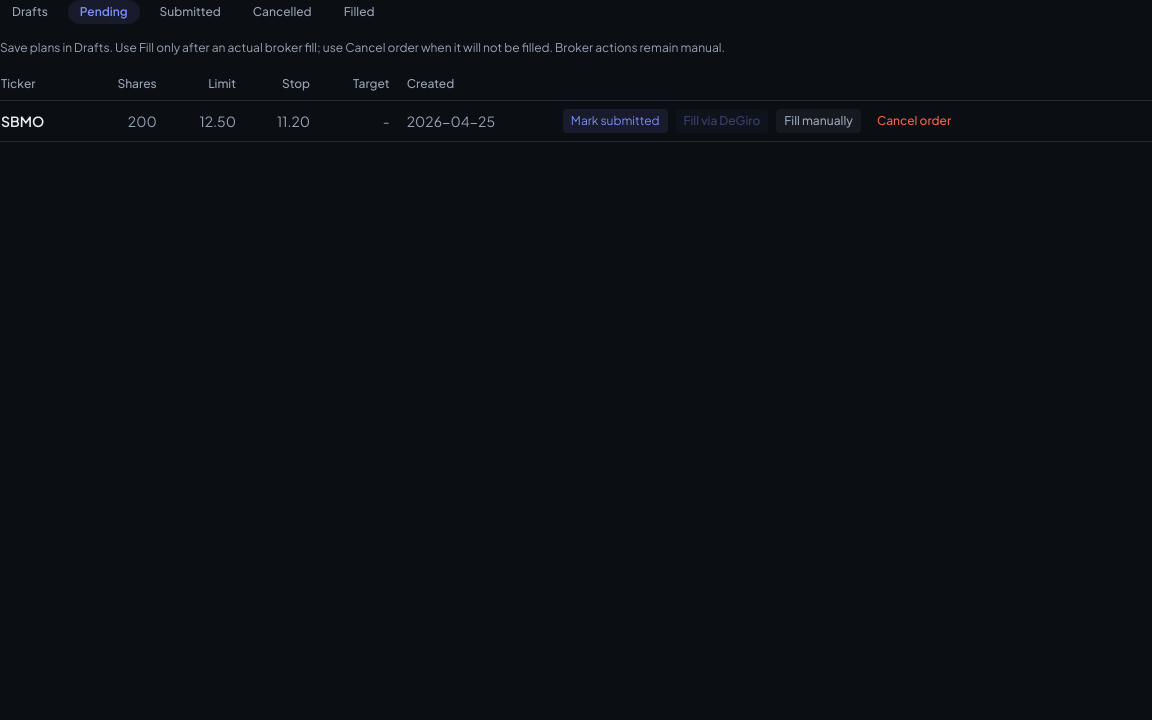
Test: PendingOrdersTab › cancels a pending order and keeps it visible in cancelled history
Click the button "Cancel order": (914, 121) [869,109,959,133]
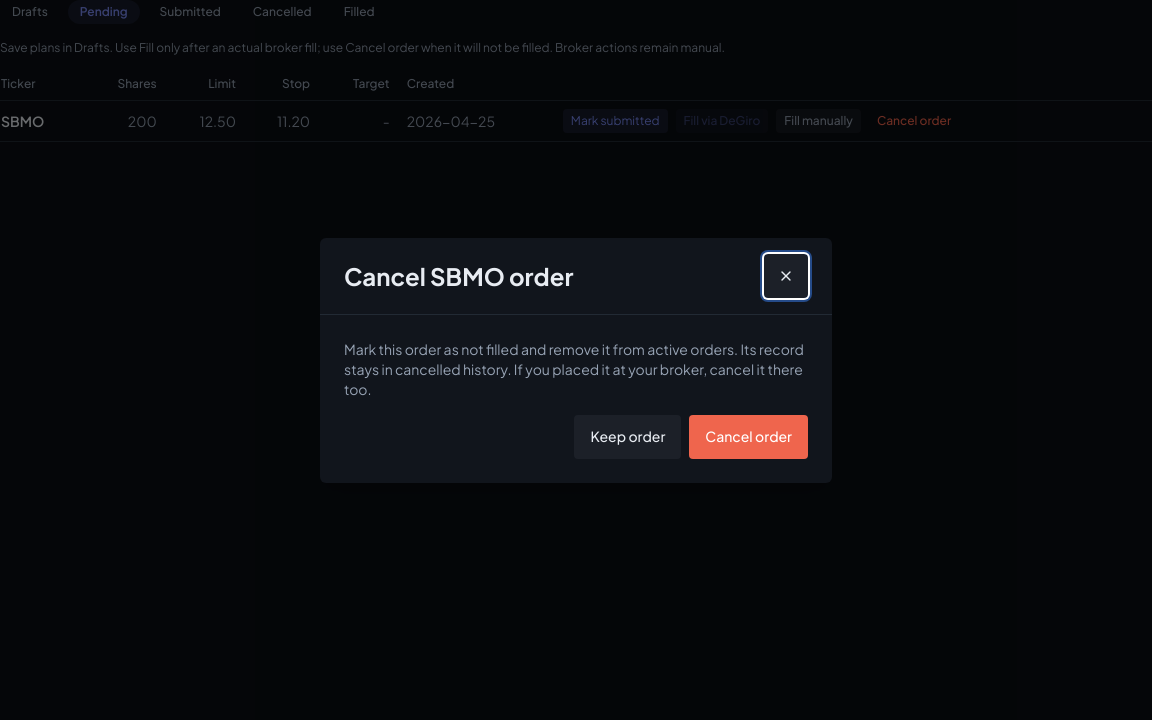
Click the button "Cancel order": (749, 436) [689,414,808,458]
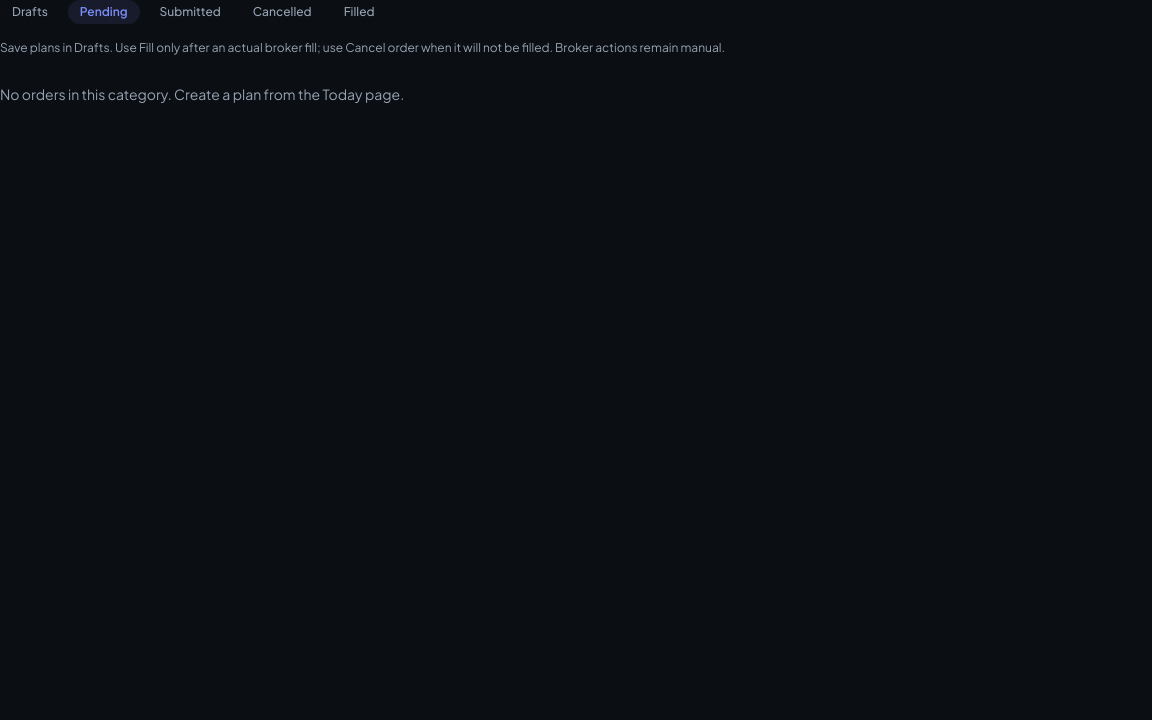
Result: the text "SBMO" is gone
Click the button "Cancelled": (282, 12) [241,0,324,24]
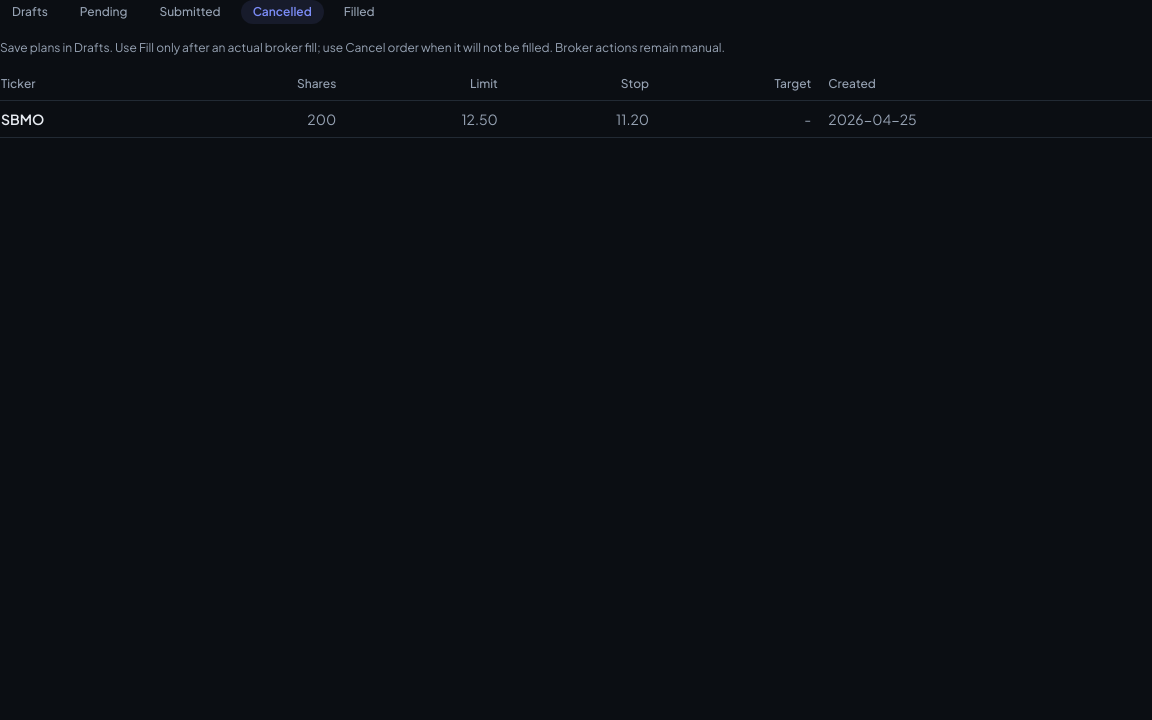
Expected: the button "Fill manually" is not shown
Result: the text "SBMO" is shown at [0,100,182,138]
